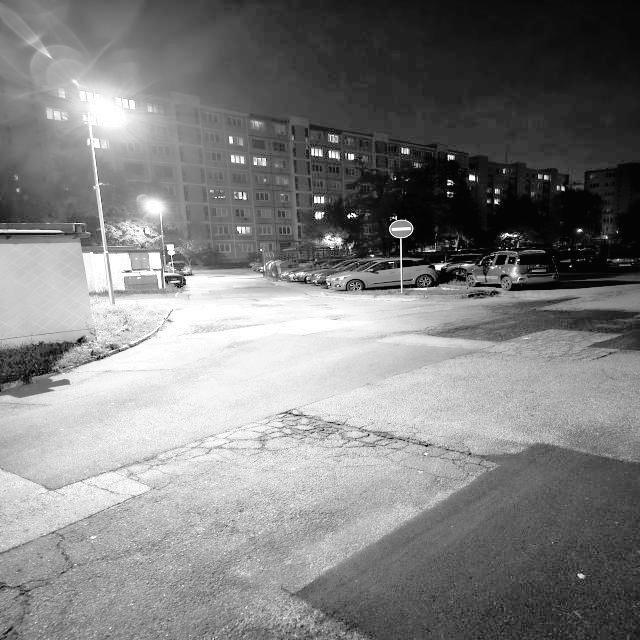Light: (80, 98, 131, 313), (142, 192, 176, 284)
